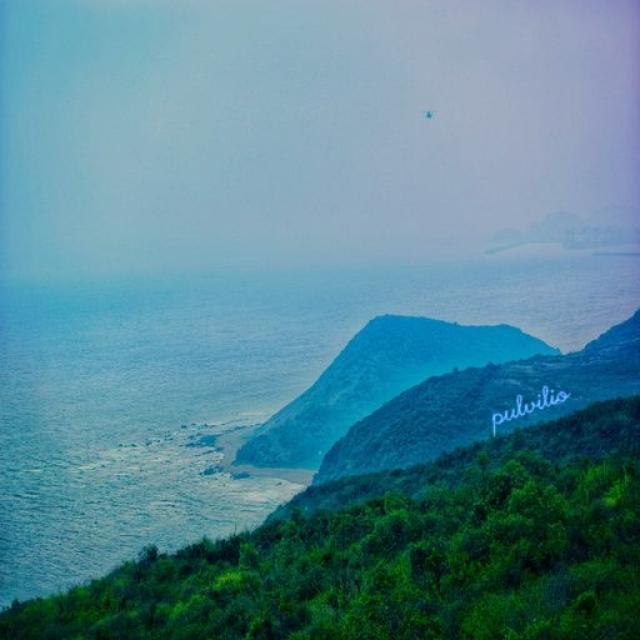watermark: (486, 376, 570, 428)
